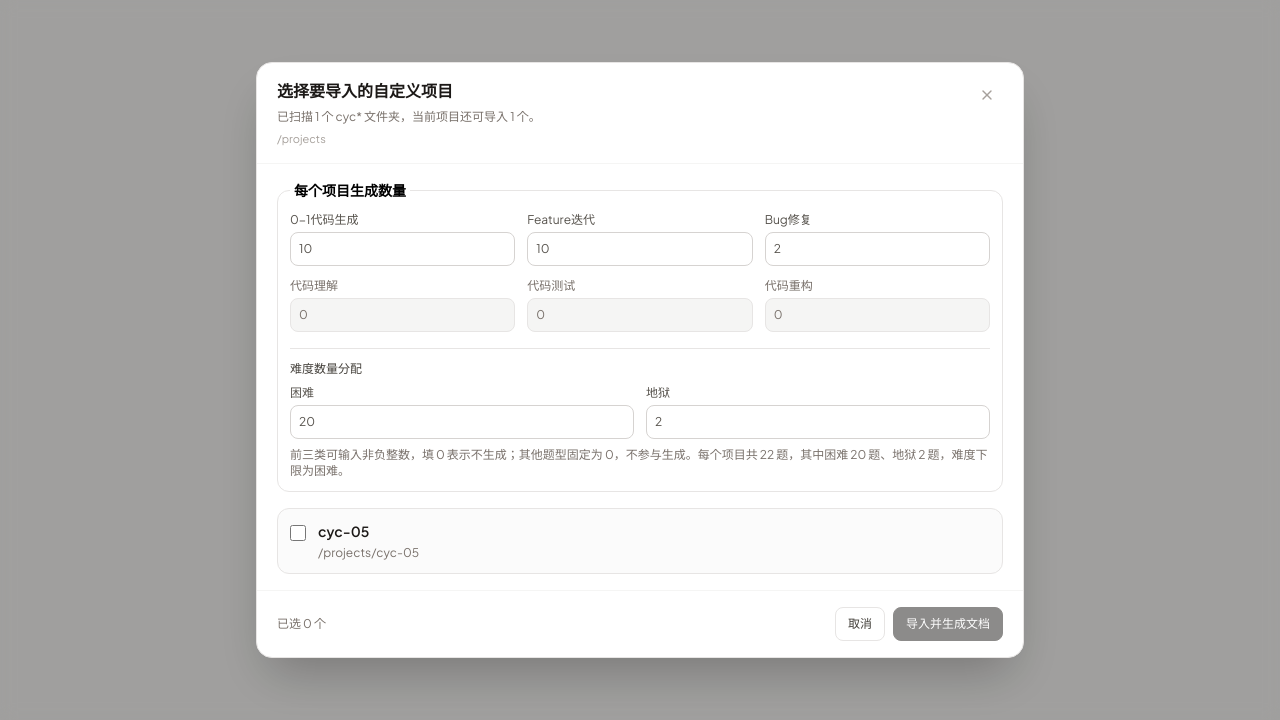
custom document quantities › requires difficulty quantities to equal the generated task total
Click the checkbox: x=298, y=533 [290, 525, 306, 541]
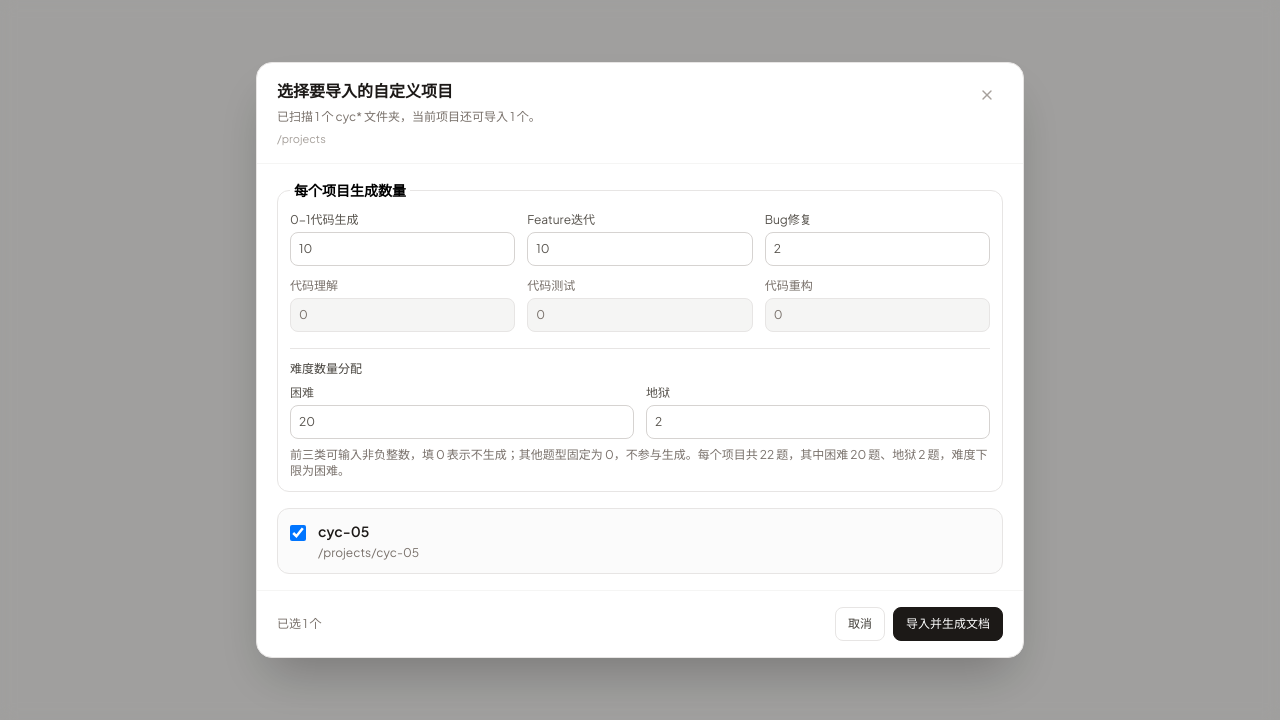
Replace the text in the number field labelled "困难" with "11": x=462, y=422 [290, 405, 634, 439]
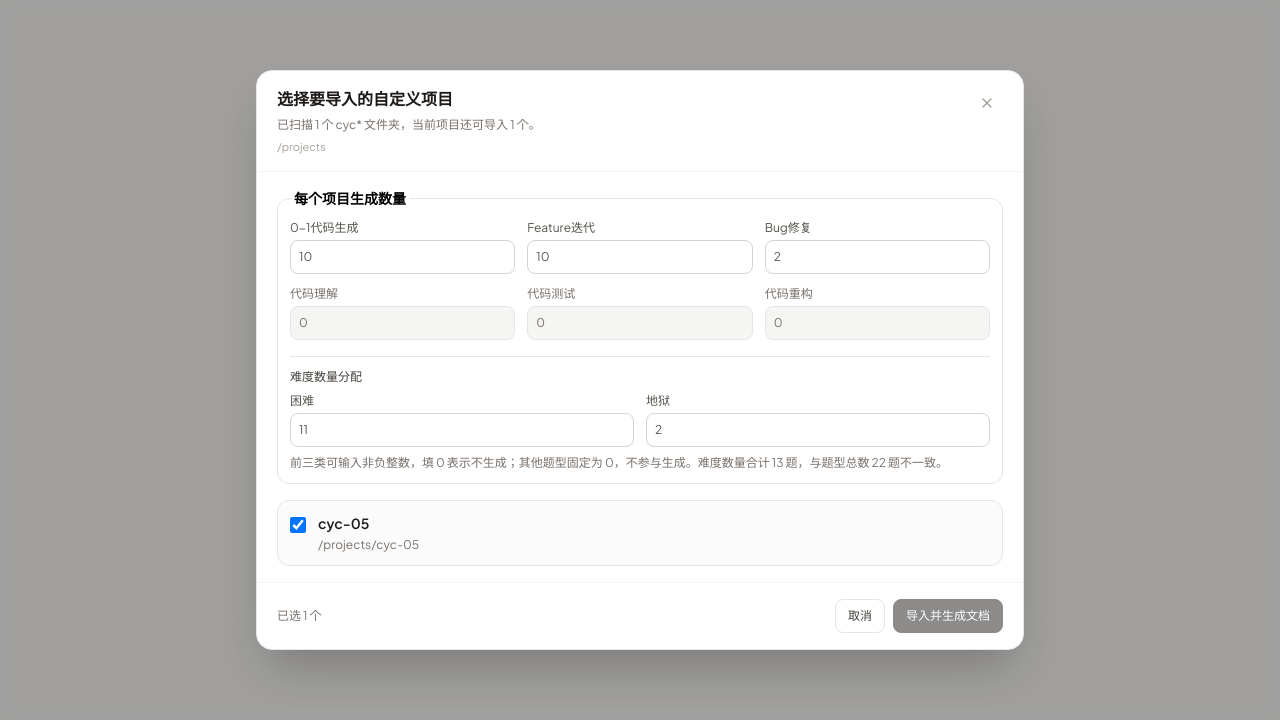
Expected: the text "难度数量合计 13 题，与题型总数 22 题不一致" is shown, [698, 455, 948, 470]
Expected: the button "导入并生成文档" is disabled, [893, 599, 1003, 633]
